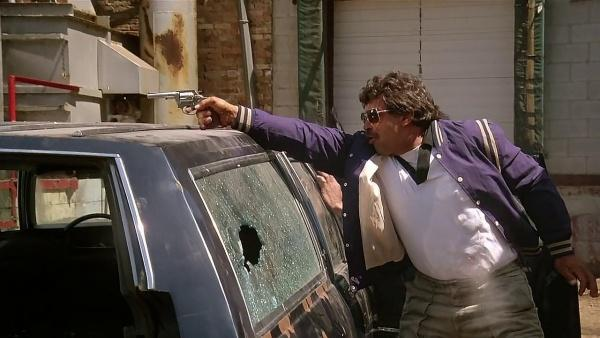Gun: (147, 88, 220, 128)
